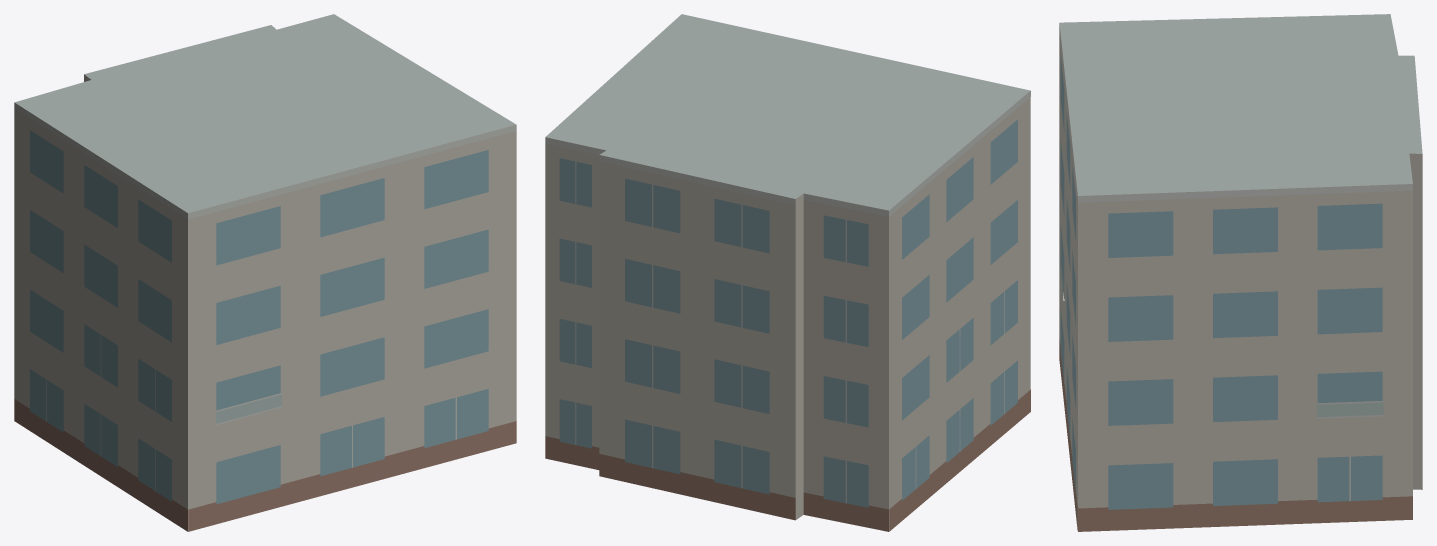
The model's file is survey-upis-32985389.glb.
3 renders of one model, left to right at view 1: azimuth 30°, elevation 25°; view 2: azimuth 150°, elevation 25°; view 3: azimuth 270°, elevation 25°, orthographic. The views are drawn at different scales.
Parts seen in each view (by area): view 1: survey-upis-32985389.tmp; view 2: survey-upis-32985389.tmp; view 3: survey-upis-32985389.tmp.
Part boxes in pixels (x1=…): survey-upis-32985389.tmp: x1=14, y1=14, x2=516, y2=531; survey-upis-32985389.tmp: x1=545, y1=14, x2=1030, y2=531; survey-upis-32985389.tmp: x1=1059, y1=14, x2=1422, y2=531.
Bounding box in the file's own units: 14.43 × 12.4 × 12.16.
